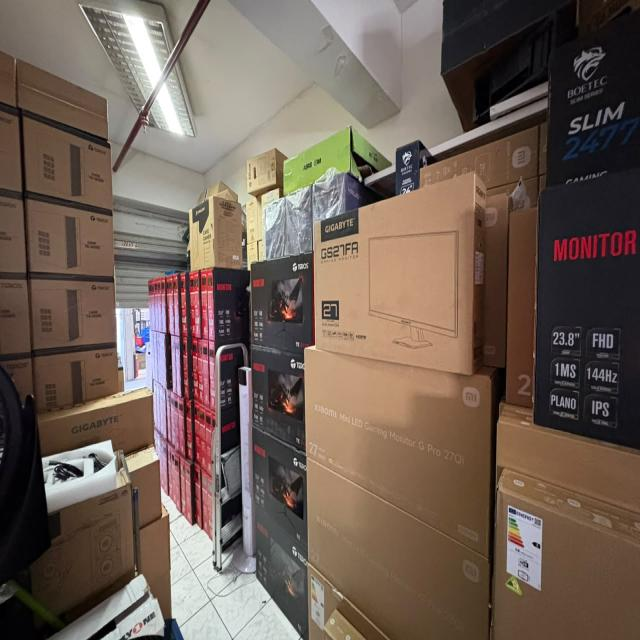caja-monitor: (304, 344, 499, 559), (315, 172, 491, 376), (307, 458, 490, 639), (534, 168, 640, 450), (492, 470, 640, 639), (496, 421, 640, 514), (254, 504, 310, 639), (419, 126, 539, 188), (252, 423, 307, 554), (308, 561, 391, 639), (251, 253, 314, 355), (506, 207, 537, 407), (251, 346, 306, 452), (207, 268, 250, 340), (184, 459, 196, 525), (181, 272, 191, 337), (200, 269, 209, 340), (183, 336, 193, 399), (193, 270, 202, 337), (186, 399, 195, 462), (202, 339, 210, 409), (162, 333, 172, 389), (199, 403, 207, 472), (179, 396, 187, 459), (175, 336, 183, 398), (205, 407, 212, 477), (202, 468, 209, 536), (197, 339, 204, 405), (194, 400, 201, 465), (195, 464, 202, 529), (173, 273, 180, 336), (207, 473, 213, 542), (189, 272, 195, 336), (180, 457, 186, 517), (174, 394, 180, 454), (171, 335, 177, 395), (161, 277, 167, 333), (166, 389, 172, 444), (193, 337, 198, 401), (176, 453, 181, 513), (169, 275, 174, 335), (166, 276, 171, 334), (157, 277, 162, 332), (151, 279, 156, 331), (168, 443, 172, 499), (154, 278, 158, 332), (159, 333, 163, 387), (164, 442, 168, 494), (148, 279, 152, 330)
